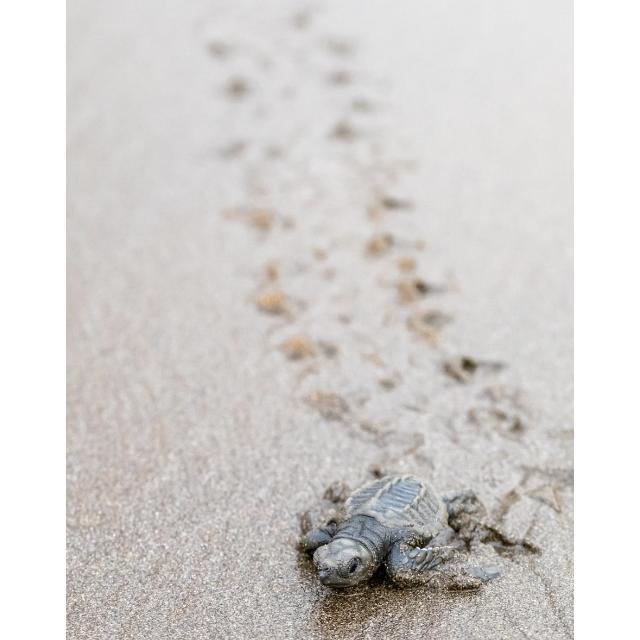turtle: (299, 473, 491, 590)
